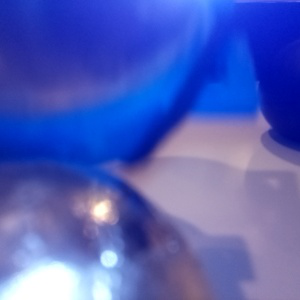alive_ball: (1, 160, 216, 300)
dead_ball: (259, 59, 300, 142)
